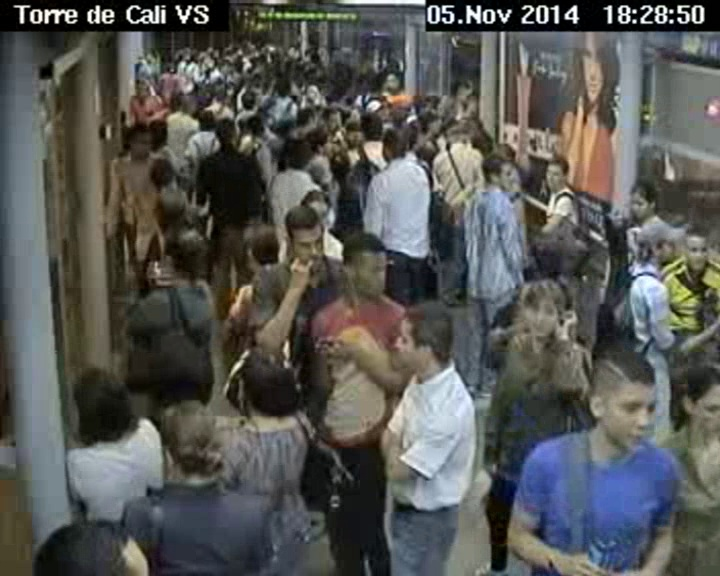person: (572, 344, 660, 461), (17, 513, 173, 576), (153, 396, 228, 483), (217, 345, 295, 422), (391, 300, 460, 379), (67, 366, 134, 442), (334, 231, 394, 301), (670, 358, 720, 438), (276, 205, 328, 279), (153, 224, 216, 279), (517, 276, 567, 343), (629, 221, 682, 274), (234, 218, 282, 268), (473, 153, 517, 200), (148, 186, 190, 232), (625, 178, 659, 220), (300, 184, 332, 228), (681, 222, 710, 270), (142, 157, 185, 188), (125, 126, 155, 163), (376, 129, 408, 163), (543, 153, 568, 193), (417, 109, 450, 139), (282, 136, 311, 170), (385, 90, 416, 119), (213, 118, 239, 152), (244, 114, 270, 141), (448, 123, 477, 147), (318, 108, 343, 134), (340, 120, 365, 145), (298, 105, 321, 132), (383, 69, 407, 94), (310, 129, 332, 156), (236, 90, 261, 111), (132, 74, 150, 97), (197, 107, 215, 130), (301, 86, 322, 105), (167, 90, 187, 108), (277, 76, 294, 96), (366, 76, 380, 99), (162, 60, 174, 73)
